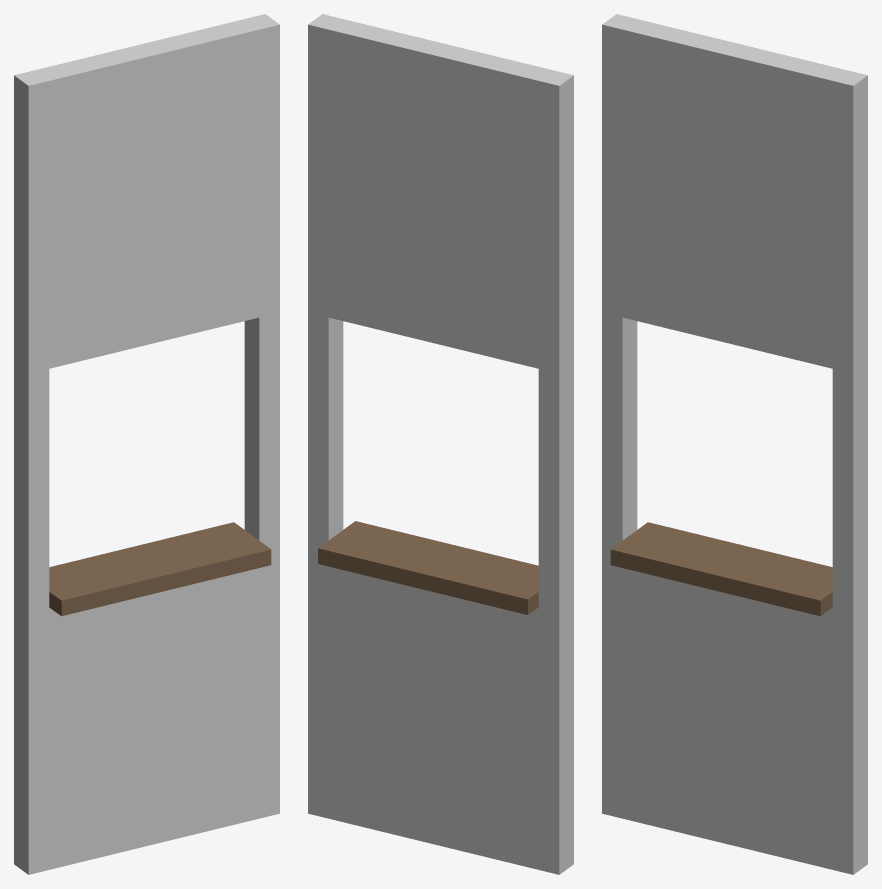
Rendered from Mesh_Wall_H2.fbx.
3 renders of one model, left to right at view 1: azimuth 30°, elevation 25°; view 2: azimuth 150°, elevation 25°; view 3: azimuth 330°, elevation 25°, orthographic.
Parts seen in each view (by area): view 1: Mesh_Wall_H2; view 2: Mesh_Wall_H2; view 3: Mesh_Wall_H2.
Boxes of the visible parts, x1,y1,x2,y2 form: Mesh_Wall_H2: (14,14,279,874); Mesh_Wall_H2: (308,14,573,874); Mesh_Wall_H2: (602,14,867,874).
Size of the model in its own units: 1 by 3 by 0.2574.
